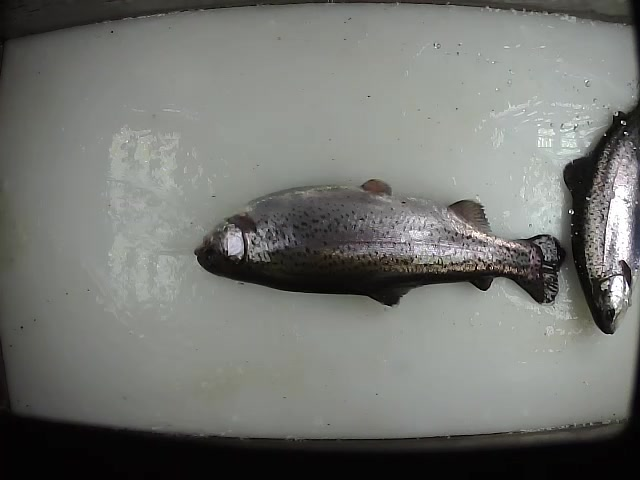fish: (190, 177, 567, 309), (561, 104, 640, 338)
